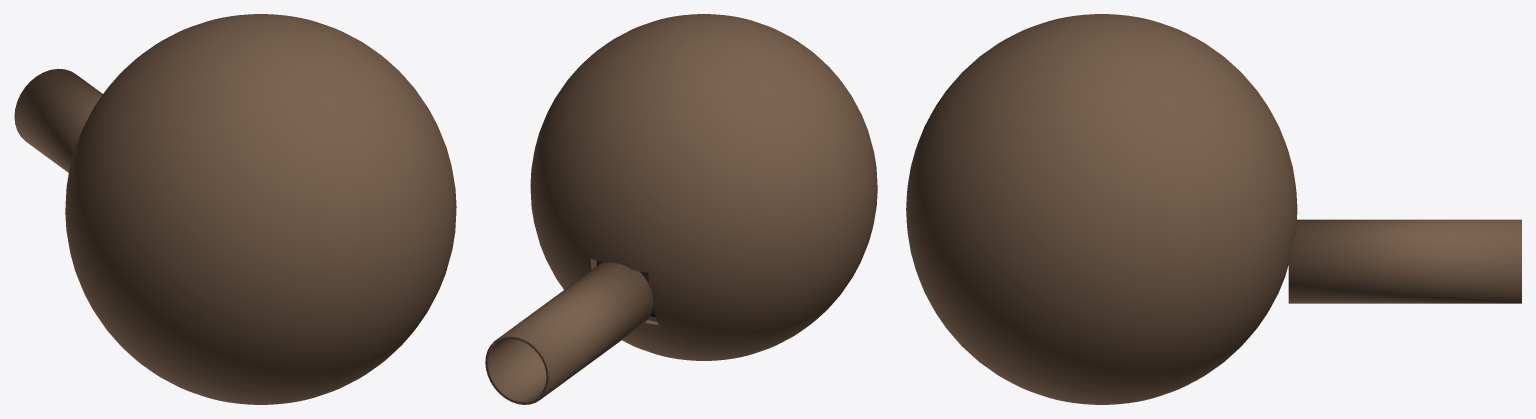
Rendered from kernkammer.obj.
The picture shows the model from 3 angles, left to right: view 1: azimuth 30°, elevation 25°; view 2: azimuth 150°, elevation 25°; view 3: azimuth 270°, elevation 25°; orthographic projection. The views are drawn at different scales.
Parts seen in each view (by area): view 1: Kernkammer; view 2: Kernkammer; view 3: Kernkammer.
Boxes of the visible parts, box(x1,y1,x2,y2) form: Kernkammer: box(14, 14, 456, 404); Kernkammer: box(485, 14, 877, 404); Kernkammer: box(906, 14, 1521, 404).
Size of the model in its own units: 68 by 68 by 107.
